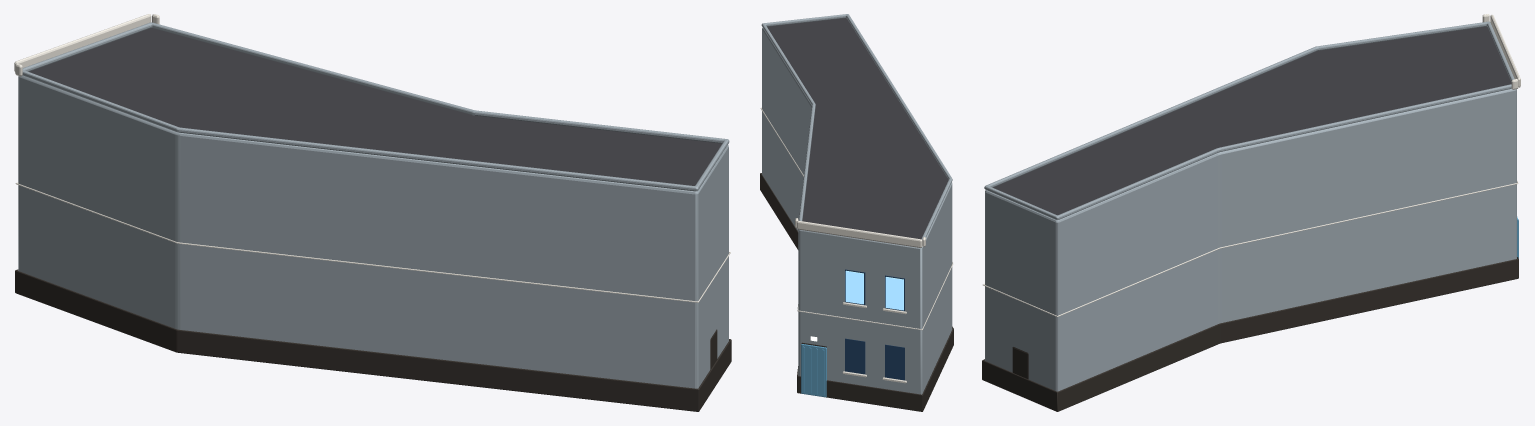
File: mid.glb
3 renders of one model, left to right at view 1: azimuth 30°, elevation 25°; view 2: azimuth 150°, elevation 25°; view 3: azimuth 270°, elevation 25°, orthographic. The views are drawn at different scales.
Parts seen in each view (by area): view 1: body, grp_Toy_ink, parapet, grp_Toy_trim; view 2: body, grp_Toy_ink, parapet, grp_Toy_trim, grp_Toy_glass, grp_Toy_sky, grp_Toy_glass_Glow; view 3: body, grp_Toy_ink, parapet, grp_Toy_trim.
Boxes of the visible parts, x1,y1,x2,y2 form: body: (18,28,728,388); grp_Toy_ink: (15,269,731,411); parapet: (22,22,729,191); grp_Toy_trim: (14,14,730,302); body: (762,18,952,394); grp_Toy_ink: (760,173,953,411); parapet: (761,14,952,239); grp_Toy_trim: (760,107,953,383); grp_Toy_glass: (845,269,904,380); grp_Toy_sky: (801,344,826,397); grp_Toy_glass_Glow: (845,270,903,310); body: (985,26,1516,391); grp_Toy_ink: (982,257,1518,411); parapet: (984,21,1514,219); grp_Toy_trim: (983,14,1520,316).
Bounding box in the file's own units: 19.1 × 9 × 21.91.
